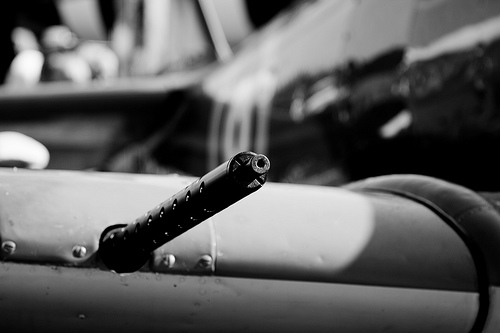rifle: (81, 150, 269, 268)
